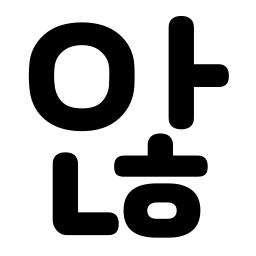Gaji: (159, 53, 211, 101)
